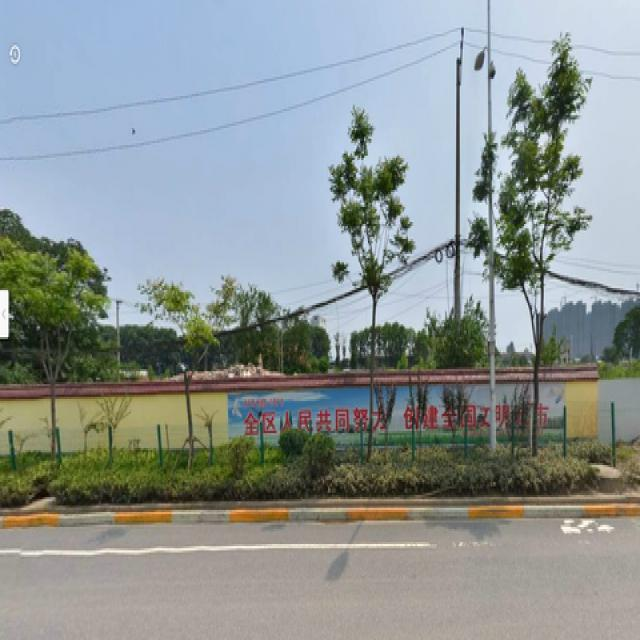koel: (502, 77, 562, 386), (351, 147, 412, 450), (15, 262, 77, 454), (158, 294, 206, 456)
